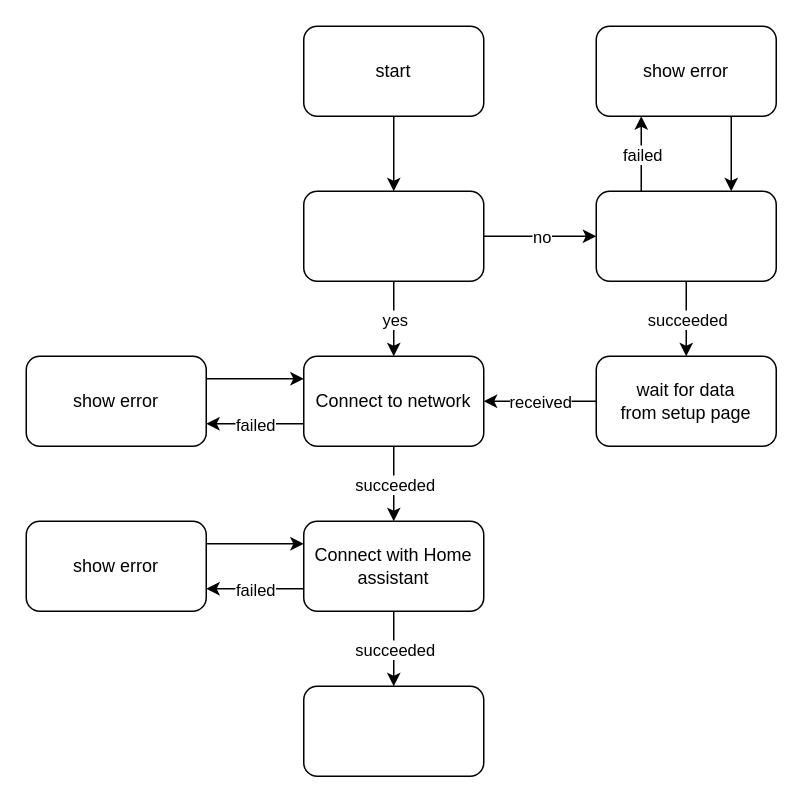
This 803x803 diagram has some shape labels left out. The shapes that lost their labels are listed below. From the top down, each one's centre as x and y in pixels, then its label:
At (393,235): "does it have a known network".
At (685,235): "Start bluethoot".
At (393,730): "send info".
